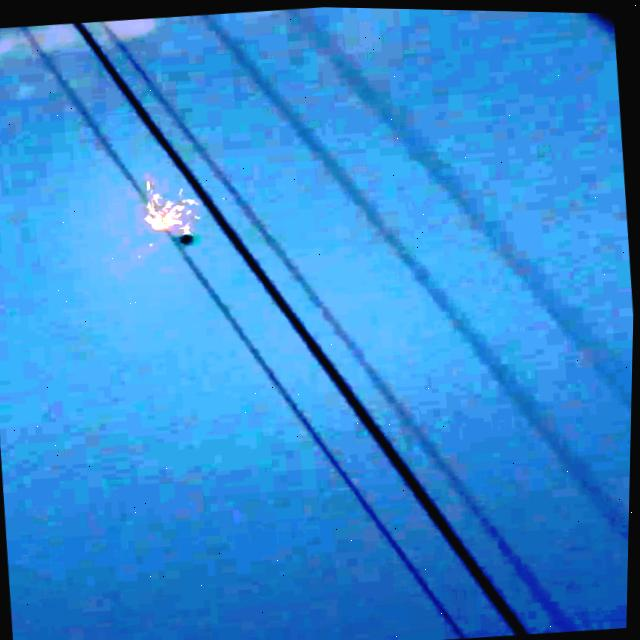obstruction: (146, 177, 201, 243)
wires: (74, 21, 532, 632), (117, 39, 581, 628), (168, 231, 469, 636), (19, 25, 146, 201)
